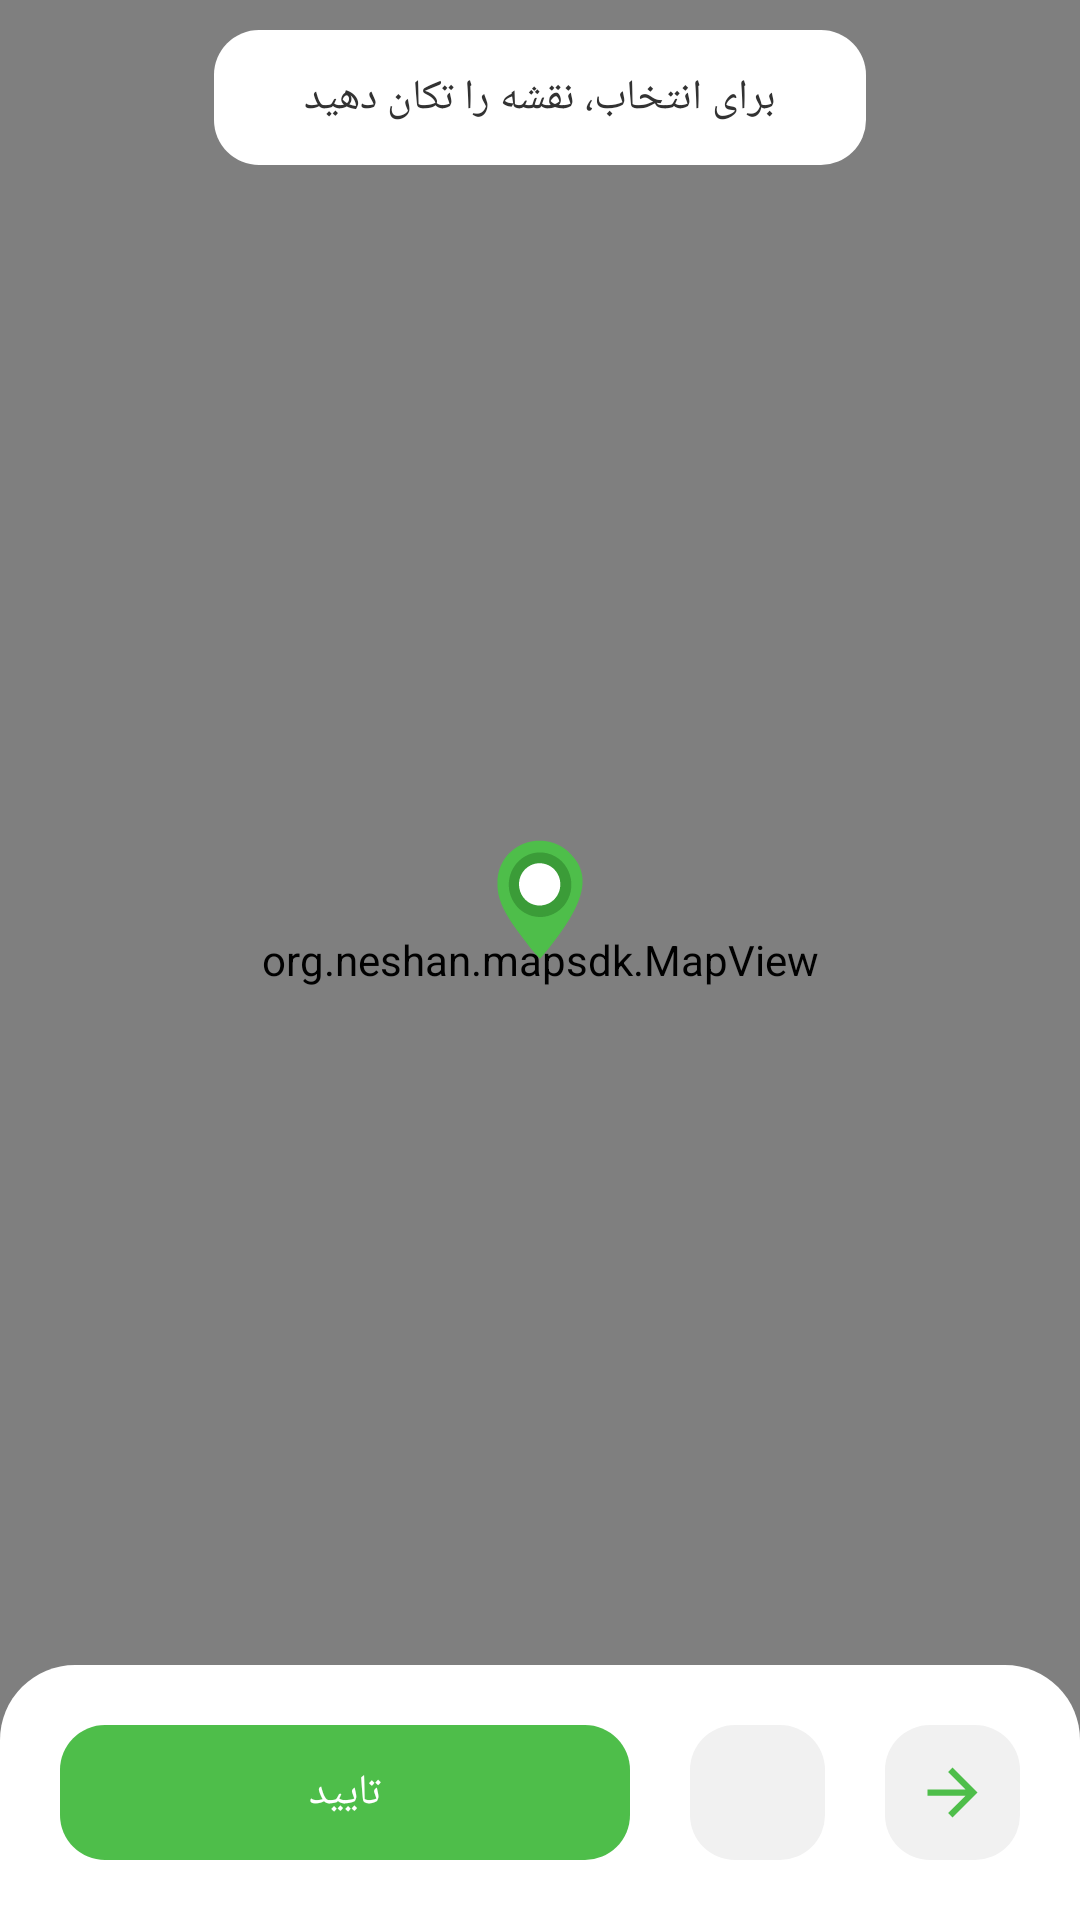

Icons on this 1080w x 1920h Android screen, each with the point to tap as (x=x, y=y):
location marker: (x=542, y=900)
